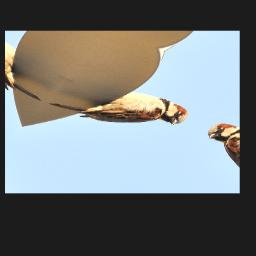Swallow: (47, 67, 195, 147)
